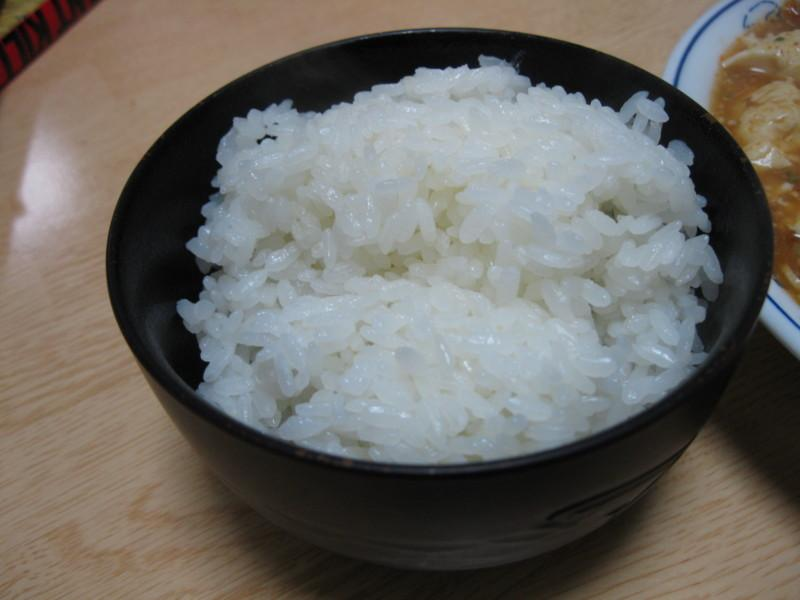rice: (176, 57, 722, 463)
